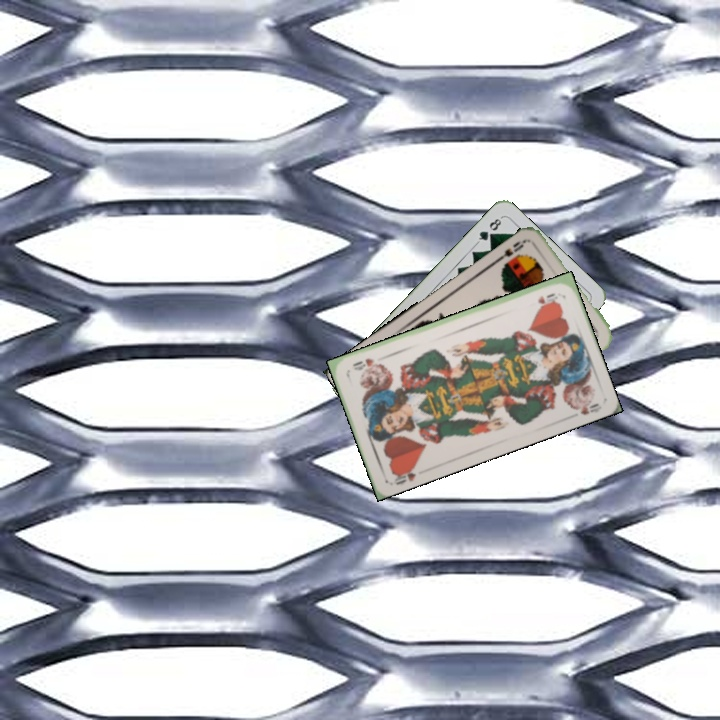G8: (473, 213, 504, 246)
HO: (388, 461, 419, 487), (534, 289, 560, 307)
SO: (494, 235, 529, 264)
